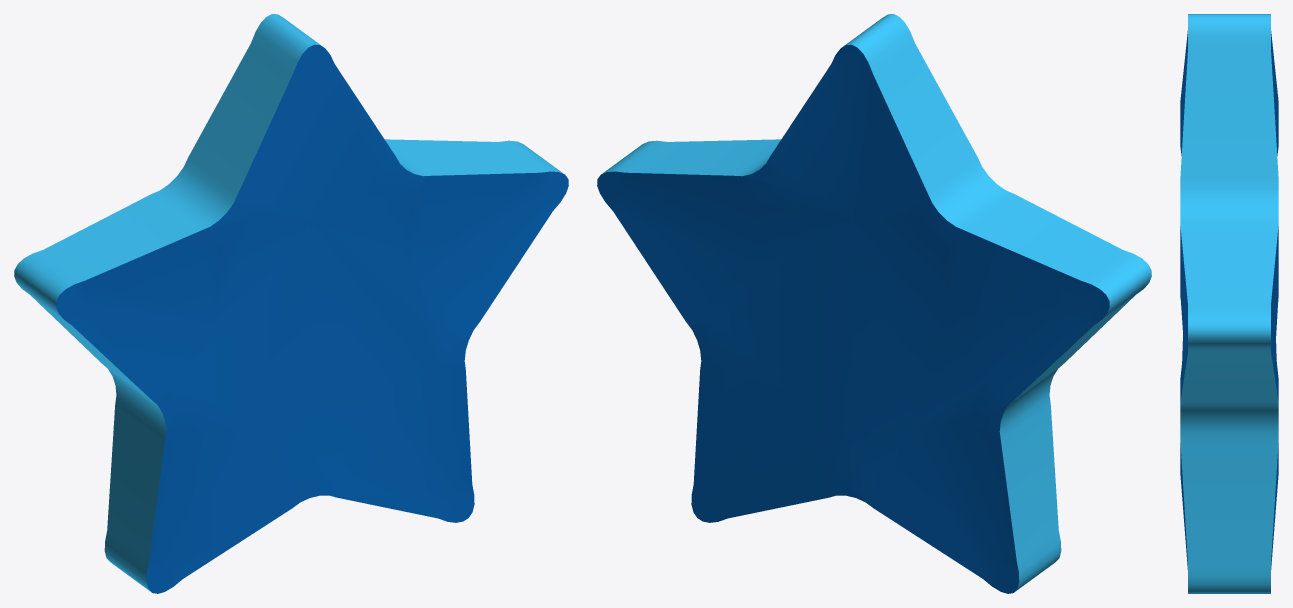
The model's file is Star C.fbx.
3 renders of one model, left to right at view 1: azimuth 30°, elevation 25°; view 2: azimuth 150°, elevation 25°; view 3: azimuth 270°, elevation 25°, orthographic.
Visible parts, largest first — view 1: Star C; view 2: Star C; view 3: Star C.
Boxes of the visible parts, x1,y1,x2,y2 form: Star C: [14, 14, 568, 593]; Star C: [597, 14, 1151, 593]; Star C: [1180, 14, 1278, 593].
Size of the model in its own units: 76.49 by 73.17 by 12.88.
